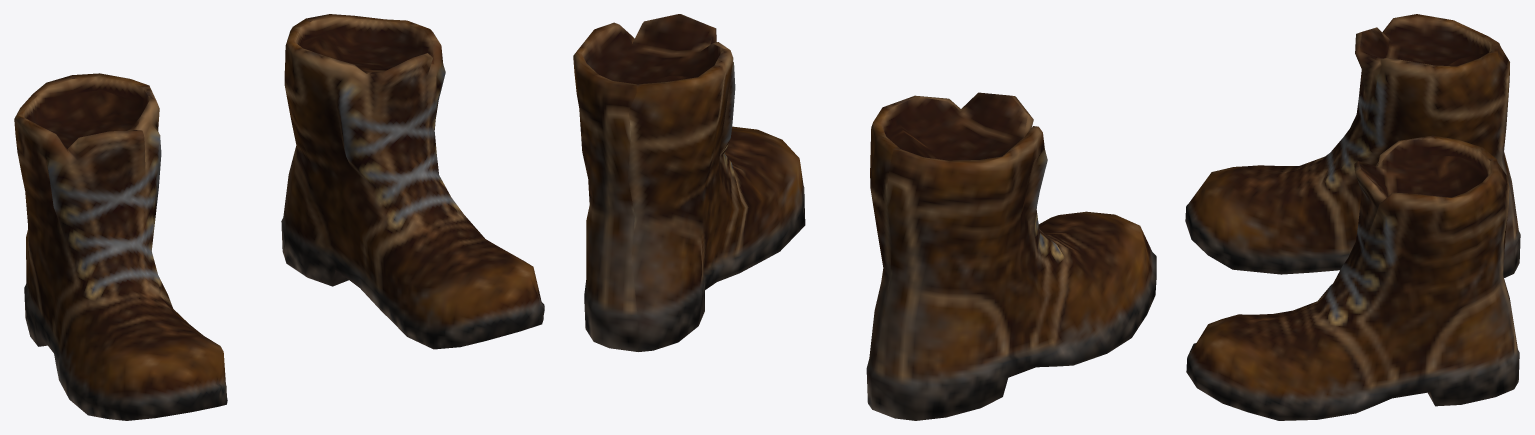
File: Shoes.fbx
3 views of the same model, side by side, from view 1: azimuth 30°, elevation 25°; view 2: azimuth 150°, elevation 25°; view 3: azimuth 270°, elevation 25° (orthographic). The views are drawn at different scales.
Visible parts, largest first — view 1: Boots; view 2: Boots; view 3: Boots.
Part boxes in pixels (<box>): Boots: <box>14,14,544,420</box>; Boots: <box>573,14,1156,420</box>; Boots: <box>1185,14,1520,420</box>.
Bounding box in the file's own units: 125 × 65.76 × 89.51.
Materials: 1 (1 with a texture image).
